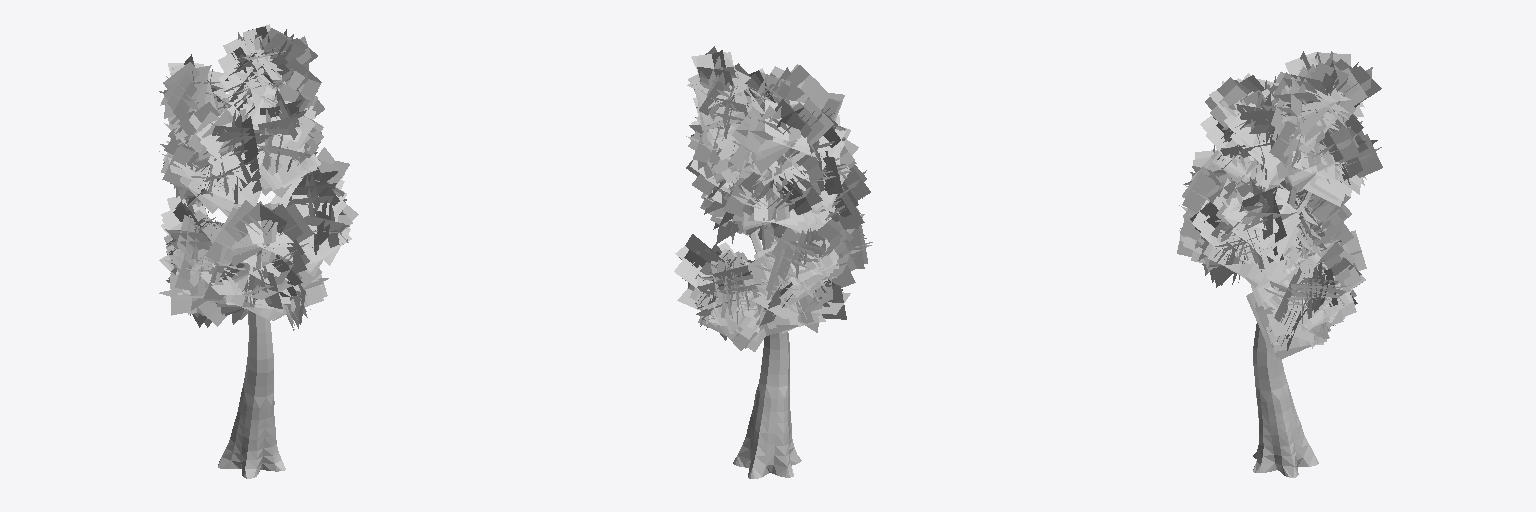
The model's file is CommonTree_3.obj.
3 views of the same model, side by side, from view 1: azimuth 30°, elevation 25°; view 2: azimuth 150°, elevation 25°; view 3: azimuth 270°, elevation 25° (orthographic).
Parts seen in each view (by area): view 1: CommonTree_3; view 2: CommonTree_3; view 3: CommonTree_3.
Part boxes in pixels (x1,y1,x2,y2): CommonTree_3: (159, 24, 358, 478); CommonTree_3: (674, 46, 872, 478); CommonTree_3: (1177, 51, 1382, 477).
Size of the model in its own units: 4.06 by 9.43 by 4.24.